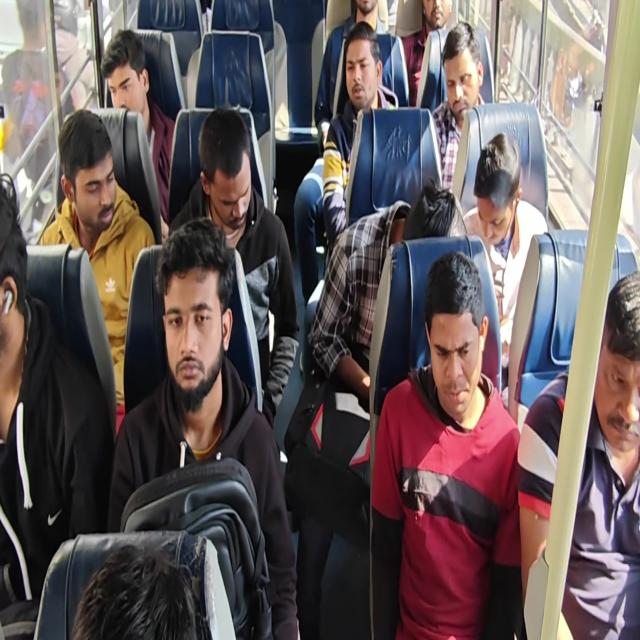person: (151, 218, 236, 407), (67, 538, 204, 640), (418, 253, 490, 422), (588, 274, 640, 460), (59, 109, 115, 238), (200, 115, 255, 236), (408, 168, 471, 259), (474, 130, 520, 248), (0, 172, 29, 350), (443, 12, 485, 125), (98, 27, 148, 120), (339, 14, 380, 117), (422, 1, 451, 27)
